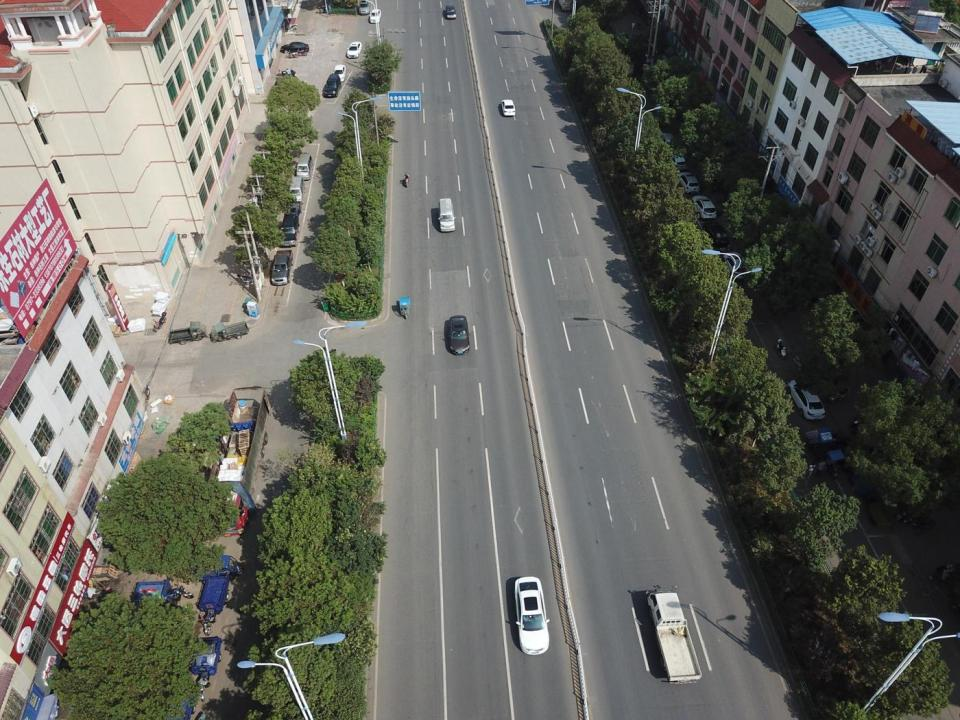car: (512, 578, 549, 656), (787, 380, 826, 420), (445, 316, 470, 354), (692, 195, 716, 219), (704, 221, 727, 245), (678, 172, 700, 192), (280, 42, 309, 53), (346, 41, 363, 58), (673, 151, 686, 170), (333, 64, 346, 82), (502, 100, 516, 116), (370, 9, 381, 23), (358, 0, 369, 14), (446, 4, 456, 18)
truck: (647, 585, 703, 684), (658, 123, 674, 147)
van: (270, 250, 292, 286), (438, 198, 456, 233), (281, 215, 300, 247), (296, 154, 314, 180), (289, 176, 305, 204), (323, 74, 341, 97), (622, 54, 635, 74)
